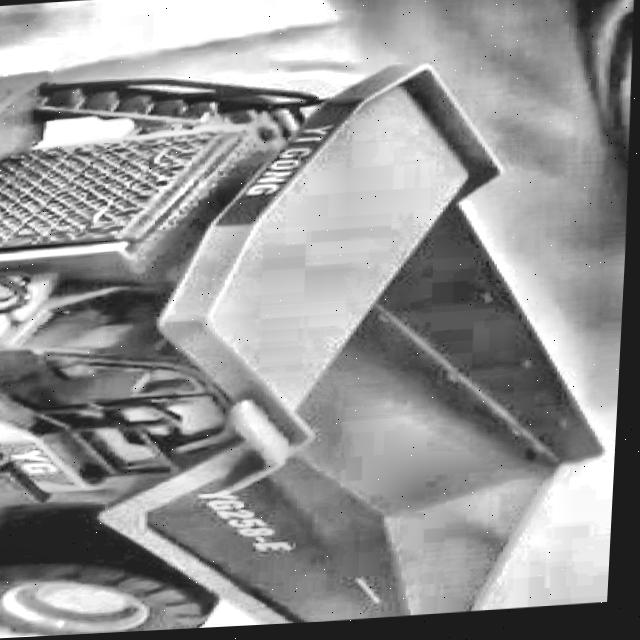dump_truck: (0, 25, 632, 640)
